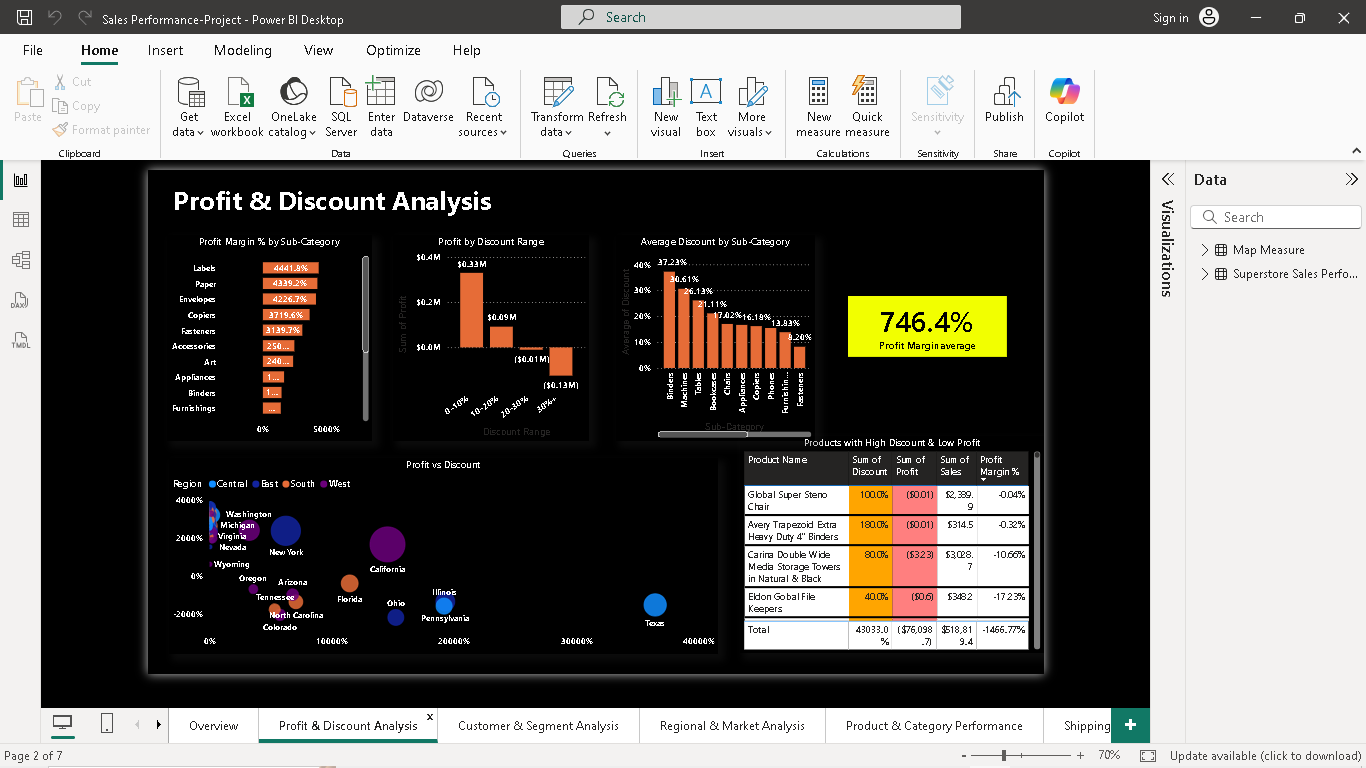

The page's visual inventory and layout, read from the dashboard file:
{"tool":"powerbi","page":{"name":"Profit & Discount Analysis","canvas":[1280,720],"ordinal":1},"visuals":[{"type":"scatterChart","title":"Profit vs Discount","fields":{"X":["Sum(Superstore Sales Performance.Discount)"],"Y":["Superstore Sales Performance.Profit Margin %"],"Size":["Sum(Superstore Sales Performance.Sales)"],"Category":["Superstore Sales Performance.State"],"Series":["Superstore Sales Performance.Region"]},"box":[29.6,411.3,784.3,279.7],"z":0},{"type":"tableEx","title":"Products with High Discount & Low Profit","fields":{"Values":["Superstore Sales Performance.Product Name","Sum(Superstore Sales Performance.Discount)","Sum(Superstore Sales Performance.Profit)","Sum(Superstore Sales Performance.Sales)","Superstore Sales Performance.Profit Margin %"]},"box":[845.7,380.6,434.4,310.4],"z":1000},{"type":"card","fields":{"Values":["Superstore Sales Performance.Profit Margin average per Sales"]},"box":[1000.4,179.9,227.1,86.7],"z":2000},{"type":"textbox","box":[29.6,11,493.6,68],"z":6000},{"type":"barChart","fields":{"Y":["Superstore Sales Performance.Profit Margin %"],"Category":["Superstore Sales Performance.Sub-Category"]},"box":[27.4,92.2,292.9,294],"z":6001},{"type":"clusteredColumnChart","title":"Average Discount by Sub-Category","fields":{"Category":["Superstore Sales Performance.Sub-Category"],"Y":["Avg(Superstore Sales Performance.Discount)"]},"box":[669.1,92.2,284.1,294],"z":6002},{"type":"columnChart","title":"Profit by Discount Range","fields":{"Category":["Superstore Sales Performance.Discount Range"],"Y":["Sum(Superstore Sales Performance.Profit)"]},"box":[349.9,92.2,279.7,294],"z":6003}]}

Visuals, with their boxes on the page's 1280x720 design canvas (x1, y1, x2, y2). These are canvas units, not pixel positions in the 1366x768 screenshot, which may show the page scaled, cropped or inside an application window:
"Profit vs Discount" scatterChart: {"x1": 30, "y1": 411, "x2": 814, "y2": 691}
"Products with High Discount & Low Profit" tableEx: {"x1": 846, "y1": 381, "x2": 1280, "y2": 691}
card - Superstore Sales Performance.Profit Margin average per Sales: {"x1": 1000, "y1": 180, "x2": 1228, "y2": 267}
textbox: {"x1": 30, "y1": 11, "x2": 523, "y2": 79}
barChart - Superstore Sales Performance.Profit Margin % x Superstore Sales Performance.Sub-Category: {"x1": 27, "y1": 92, "x2": 320, "y2": 386}
"Average Discount by Sub-Category" clusteredColumnChart: {"x1": 669, "y1": 92, "x2": 953, "y2": 386}
"Profit by Discount Range" columnChart: {"x1": 350, "y1": 92, "x2": 630, "y2": 386}
